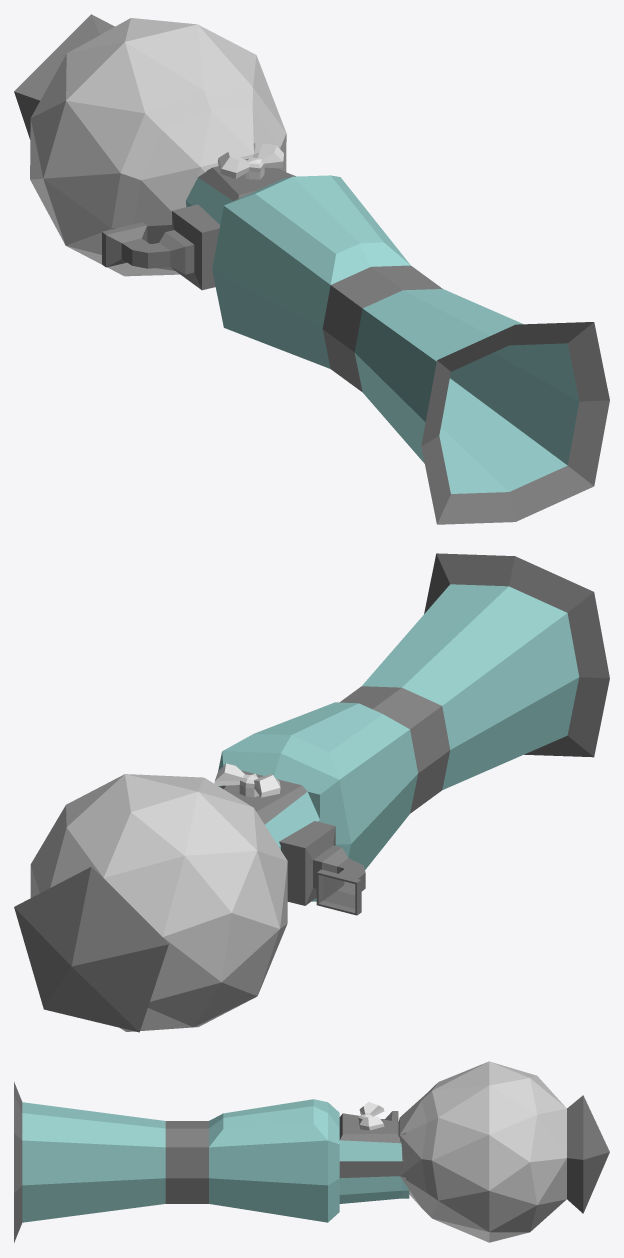
File: Machine_graine_buisson.fbx
3 views of the same model, one above another, from view 1: azimuth 30°, elevation 25°; view 2: azimuth 150°, elevation 25°; view 3: azimuth 270°, elevation 25° (orthographic). The views are drawn at different scales.
Visible parts, largest first — view 1: Base_machine02, Curve_machine, conteneur essence de vie.002, Tourniquet02; view 2: Base_machine02, Curve_machine, conteneur essence de vie.002, Tourniquet02; view 3: Base_machine02, Curve_machine, Tourniquet02.
Boxes of the visible parts, <box> form: Base_machine02: <box>186,159,609,524</box>; Curve_machine: <box>14,14,286,276</box>; conteneur essence de vie.002: <box>102,204,220,290</box>; Tourniquet02: <box>217,143,283,179</box>; Base_machine02: <box>218,553,609,901</box>; Curve_machine: <box>14,774,287,1032</box>; conteneur essence de vie.002: <box>279,821,365,915</box>; Tourniquet02: <box>214,763,280,797</box>; Base_machine02: <box>14,1082,409,1242</box>; Curve_machine: <box>398,1061,609,1242</box>; Tourniquet02: <box>358,1102,384,1130</box>.
Bounding box in the file's own units: 163 × 150 × 512.
